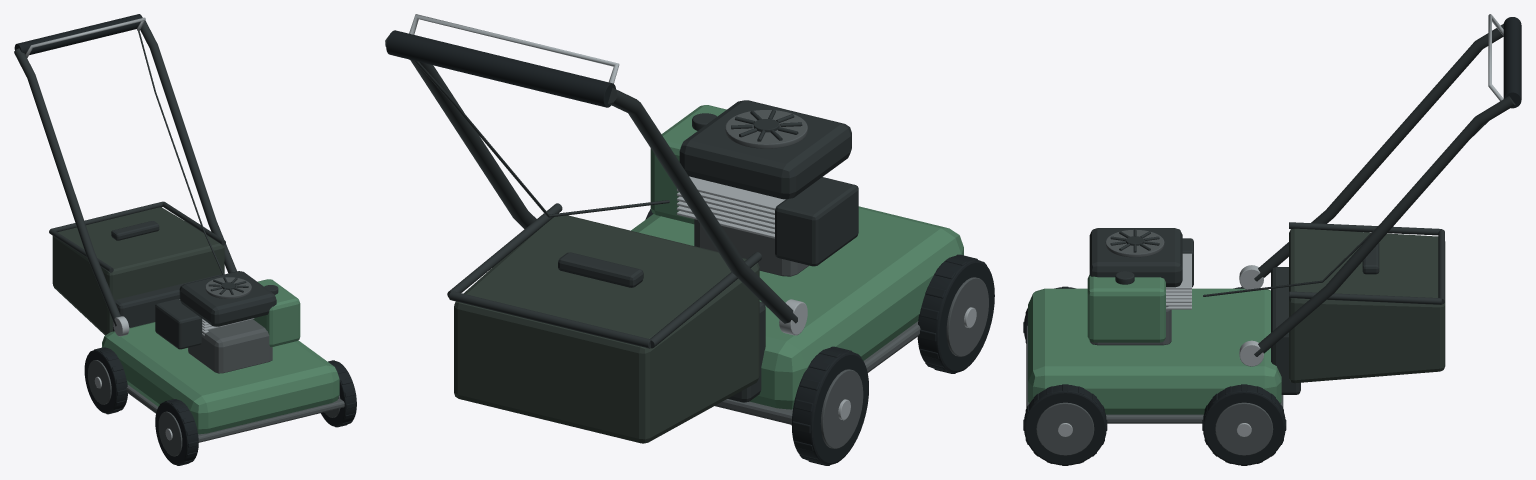
Rendered from city-push-lawn-mower.glb.
3 views of the same model, side by side, from view 1: azimuth 30°, elevation 25°; view 2: azimuth 150°, elevation 25°; view 3: azimuth 270°, elevation 25° (orthographic). The views are drawn at different scales.
Parts seen in each view (by area): view 1: Assembly | Muted garden green enamel, Assembly | Graphite machine powder coat, Assembly | Grass catcher woven-look solid color, Assembly | Rough cast iron, Assembly | Non-marking rubber, Assembly | Zinc plated steel; view 2: Assembly | Grass catcher woven-look solid color, Assembly | Graphite machine powder coat, Assembly | Muted garden green enamel, Assembly | Non-marking rubber, Assembly | Rough cast iron, Assembly | Zinc plated steel; view 3: Assembly | Muted garden green enamel, Assembly | Grass catcher woven-look solid color, Assembly | Graphite machine powder coat, Assembly | Non-marking rubber, Assembly | Rough cast iron, Assembly | Zinc plated steel.
Boxes of the visible parts, box(x1,y1,x2,y2) form: Assembly | Muted garden green enamel: box(102, 279, 339, 434); Assembly | Graphite machine powder coat: box(14, 20, 278, 349); Assembly | Grass catcher woven-look solid color: box(52, 207, 224, 335); Assembly | Rough cast iron: box(88, 277, 344, 456); Assembly | Non-marking rubber: box(14, 14, 356, 465); Assembly | Zinc plated steel: box(25, 17, 254, 440); Assembly | Grass catcher woven-look solid color: box(454, 215, 759, 443); Assembly | Graphite machine powder coat: box(385, 36, 858, 402); Assembly | Muted garden green enamel: box(631, 105, 963, 409); Assembly | Non-marking rubber: box(386, 30, 994, 465); Assembly | Rough cast iron: box(694, 110, 988, 448); Assembly | Zinc plated steel: box(409, 14, 976, 420); Assembly | Muted garden green enamel: box(1028, 275, 1281, 414); Assembly | Grass catcher woven-look solid color: box(1289, 228, 1445, 383); Assembly | Graphite machine powder coat: box(1089, 24, 1515, 394); Assembly | Non-marking rubber: box(1023, 17, 1521, 465); Assembly | Rough cast iron: box(1026, 229, 1283, 455); Assembly | Zinc plated steel: box(1058, 14, 1503, 436).
Bounding box in the file's own units: 0.6882 × 1.08 × 1.34.
